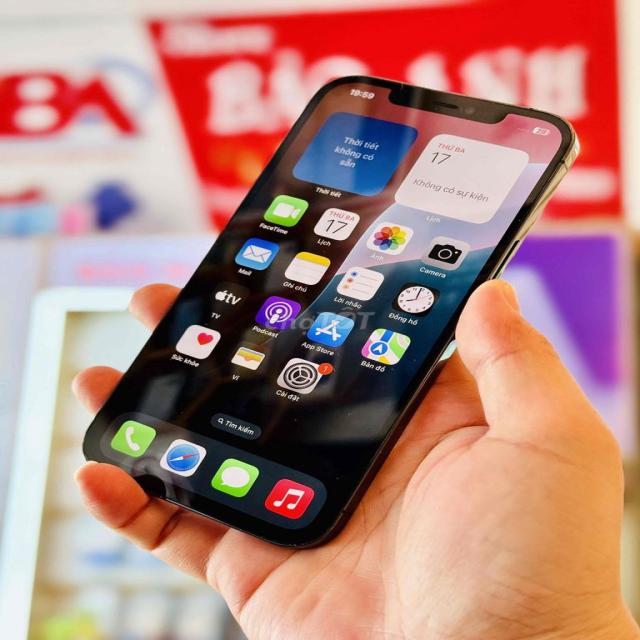gen_12_13: (87, 74, 581, 550)
